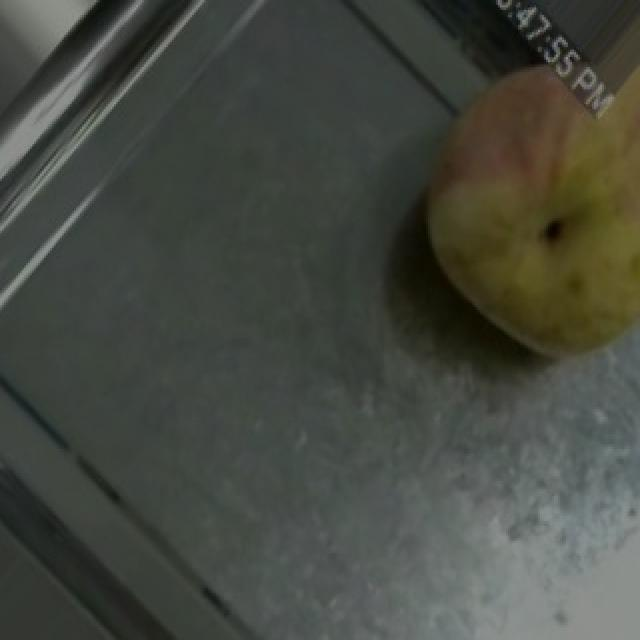Fruit: (372, 22, 640, 394)
